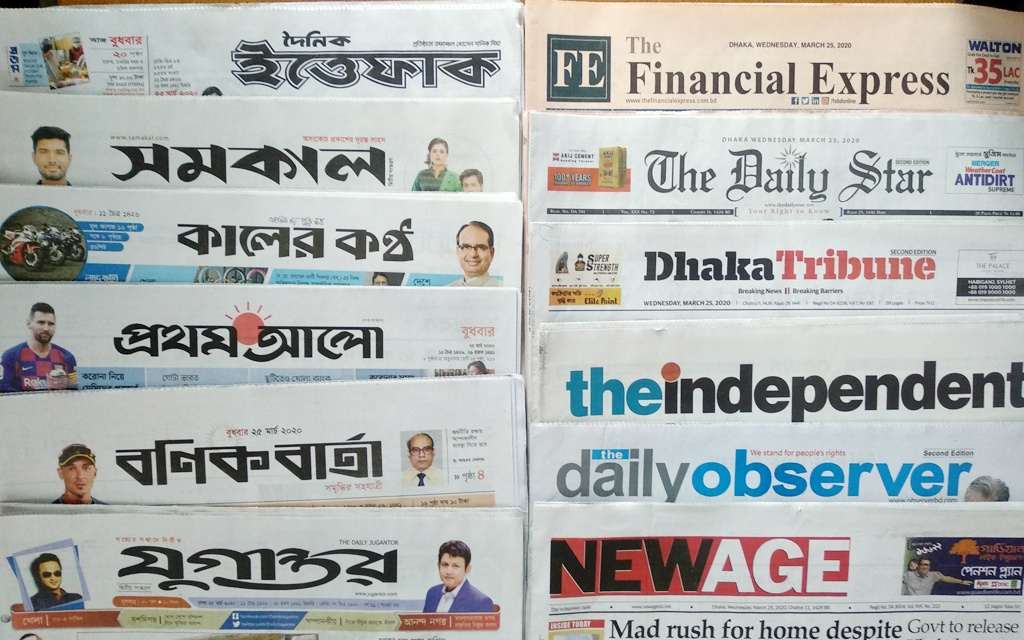news_paper: (503, 74, 1024, 255), (524, 276, 1024, 457), (1, 372, 536, 536), (1, 261, 517, 421), (2, 165, 537, 315), (1, 488, 524, 636), (525, 484, 1024, 638), (2, 83, 520, 223), (511, 3, 1022, 142), (513, 405, 1014, 540), (1, 3, 529, 130), (510, 207, 1024, 300)
